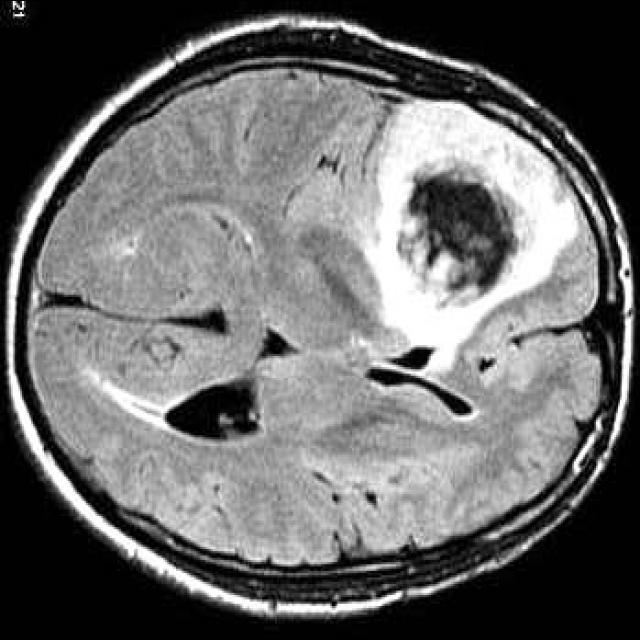tumor: (378, 101, 576, 355)
